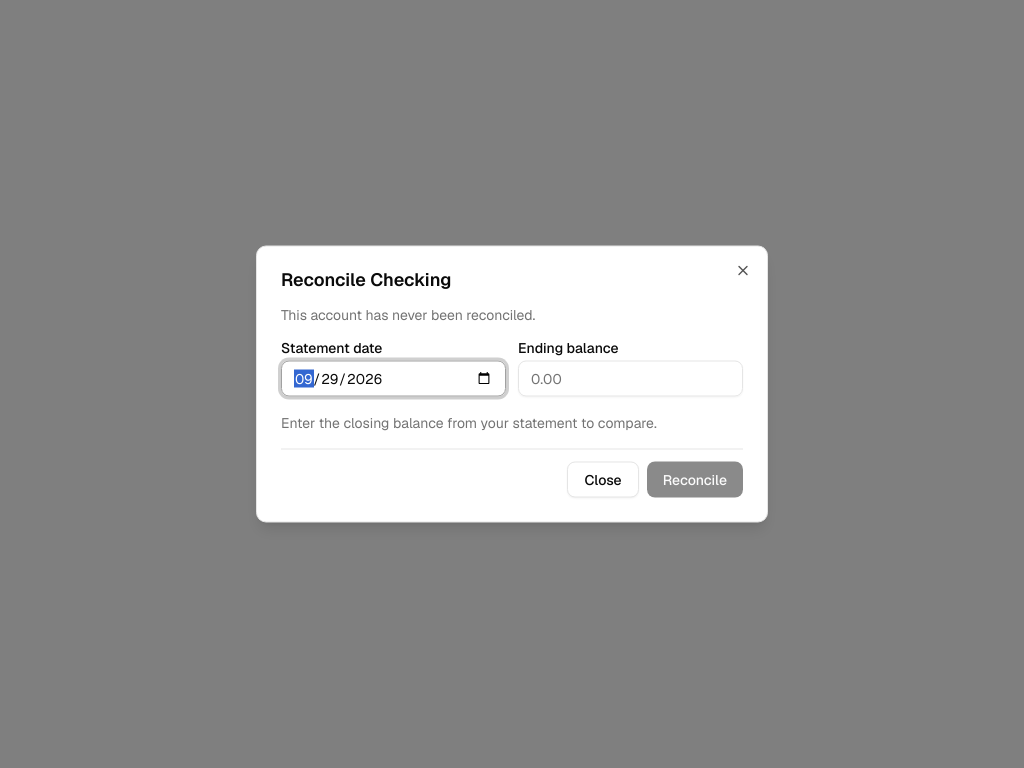
Test: <ReconcileDialog /> › names the date it last agreed with the bank
The image size is (1024, 768).
In the number field labelled "Ending balance": coordinates (630, 378) [518, 360, 743, 396], type "1000.00"
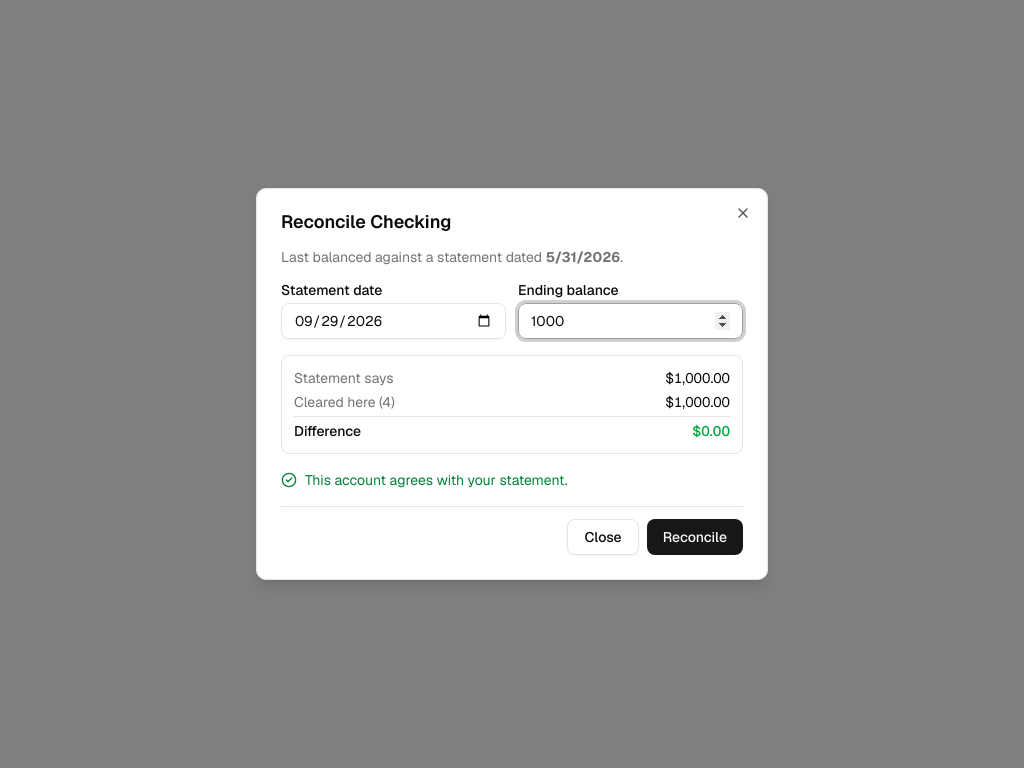
Expected: the text "Last balanced against a statement dated 5/31/2026." is shown, [281, 248, 623, 266]
